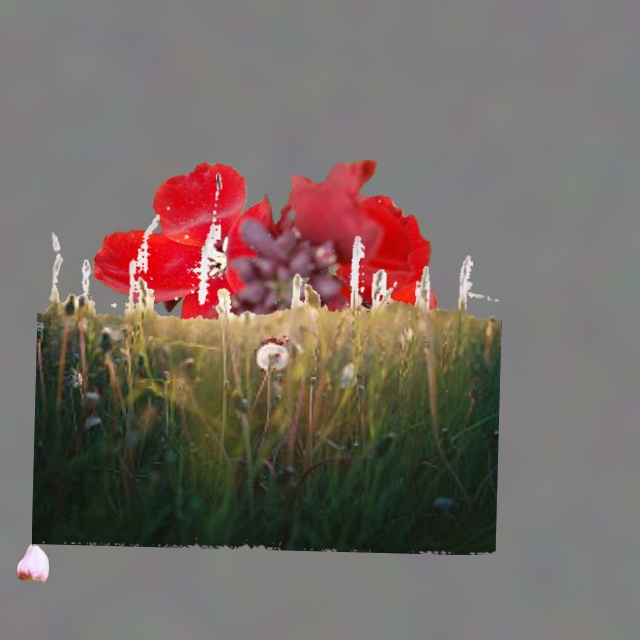dandelion: (32, 173, 501, 554)
foxglove: (16, 545, 49, 582)
jasmine: (341, 271, 447, 346)
wallflower: (93, 159, 439, 484)
